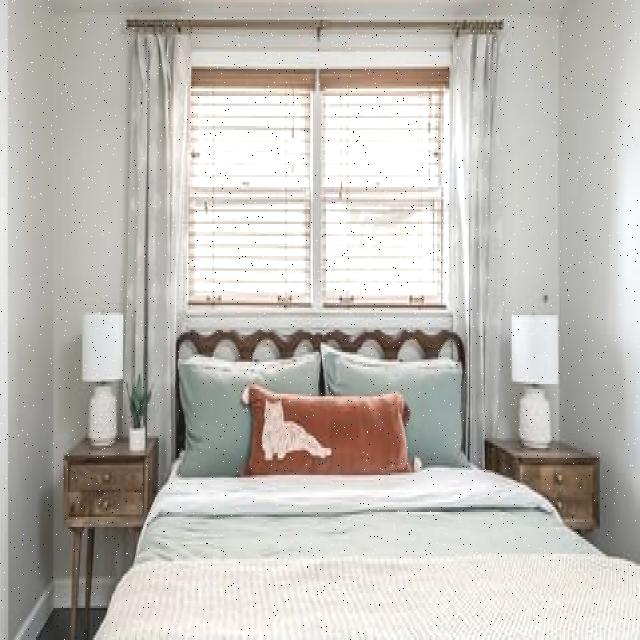bed: (138, 339, 565, 578)
